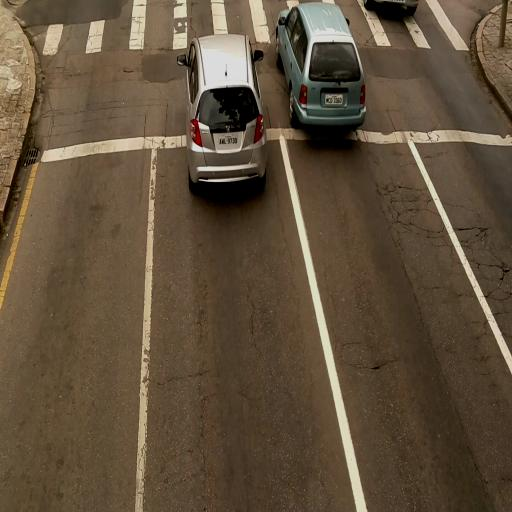car: (178, 30, 271, 194), (276, 2, 365, 132), (364, 0, 421, 15)
